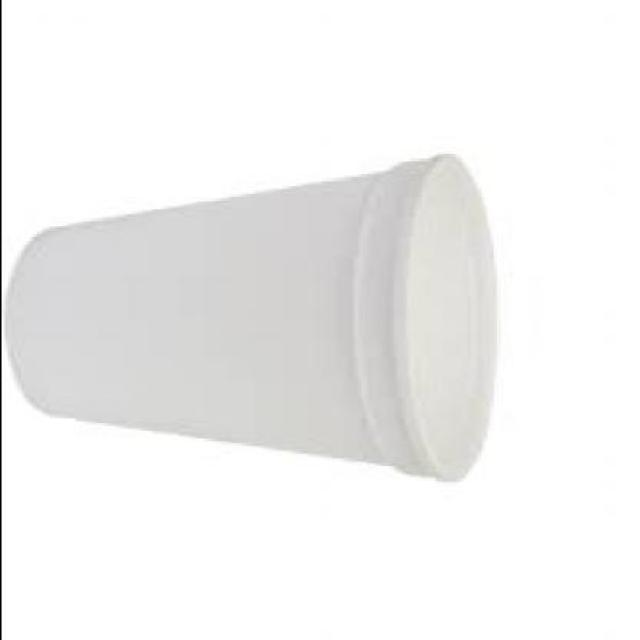PAPER: (9, 159, 498, 486)
